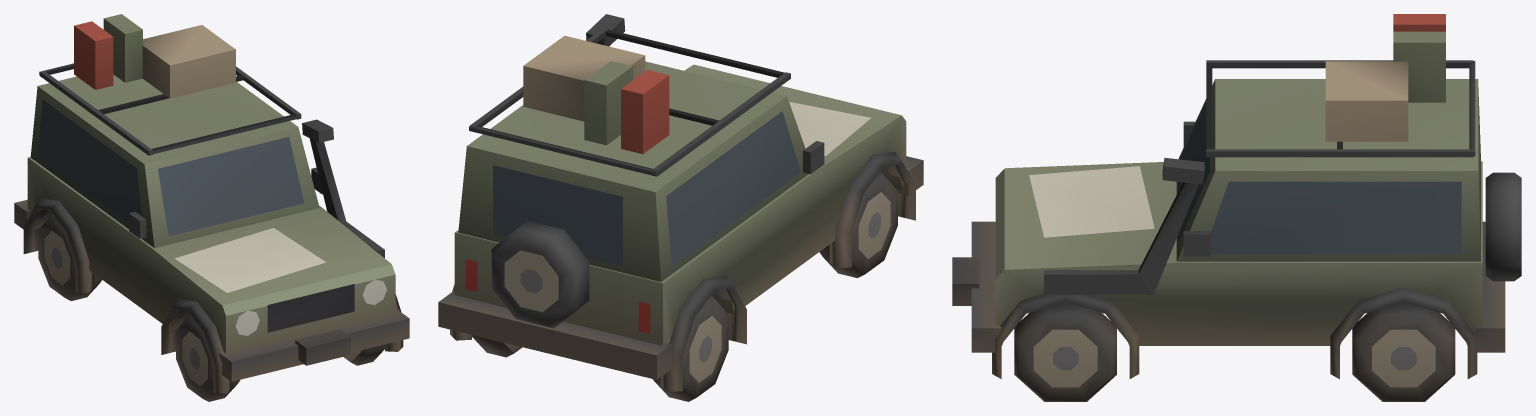
File: jeep_expedition_lod.glb
3 views of the same model, side by side, from view 1: azimuth 30°, elevation 25°; view 2: azimuth 150°, elevation 25°; view 3: azimuth 270°, elevation 25° (orthographic). The views are drawn at different scales.
Parts seen in each view (by area): view 1: JeepLOD; view 2: JeepLOD; view 3: JeepLOD.
Boxes of the visible parts, x1,y1,x2,y2 form: JeepLOD: [14, 14, 409, 401]; JeepLOD: [438, 14, 923, 401]; JeepLOD: [952, 14, 1521, 401].
Bounding box in the file's own units: 1.79 × 2.25 × 3.79.
